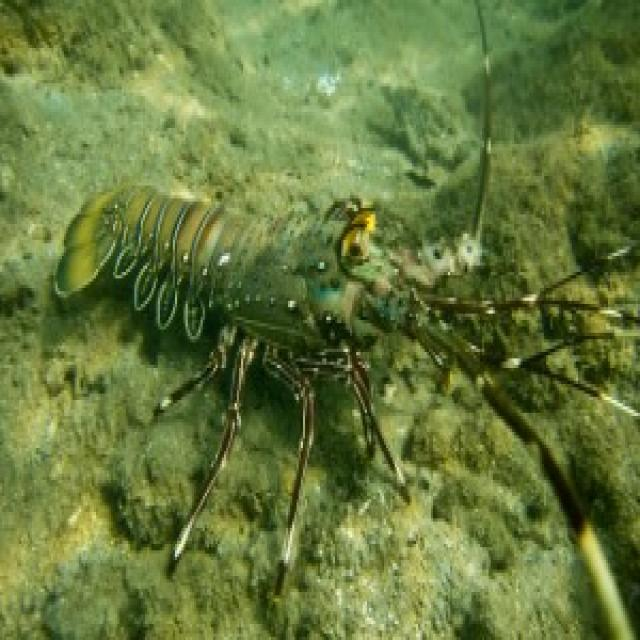lobsters: (59, 142, 640, 621)
